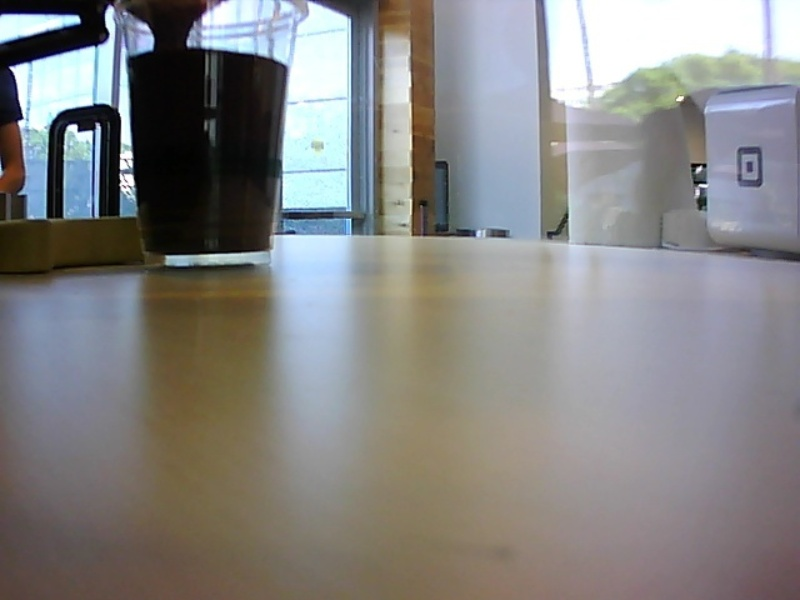cup: (110, 1, 313, 268)
limit: (122, 38, 290, 75)
